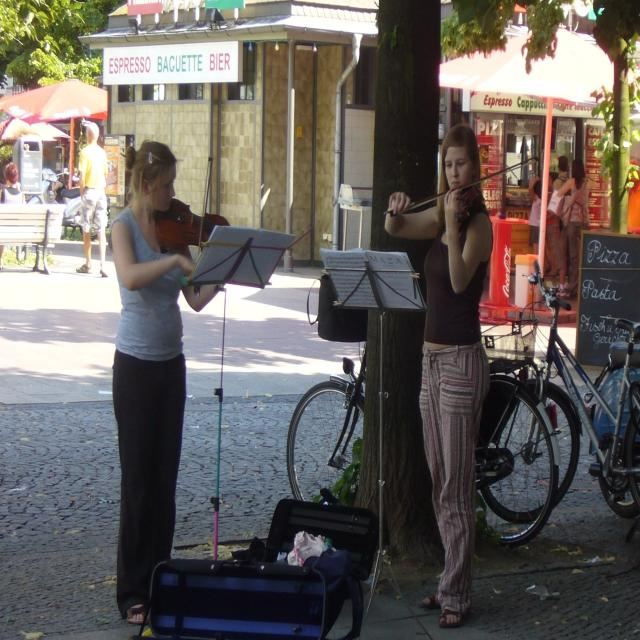violin: (155, 192, 234, 252), (452, 184, 484, 223)
